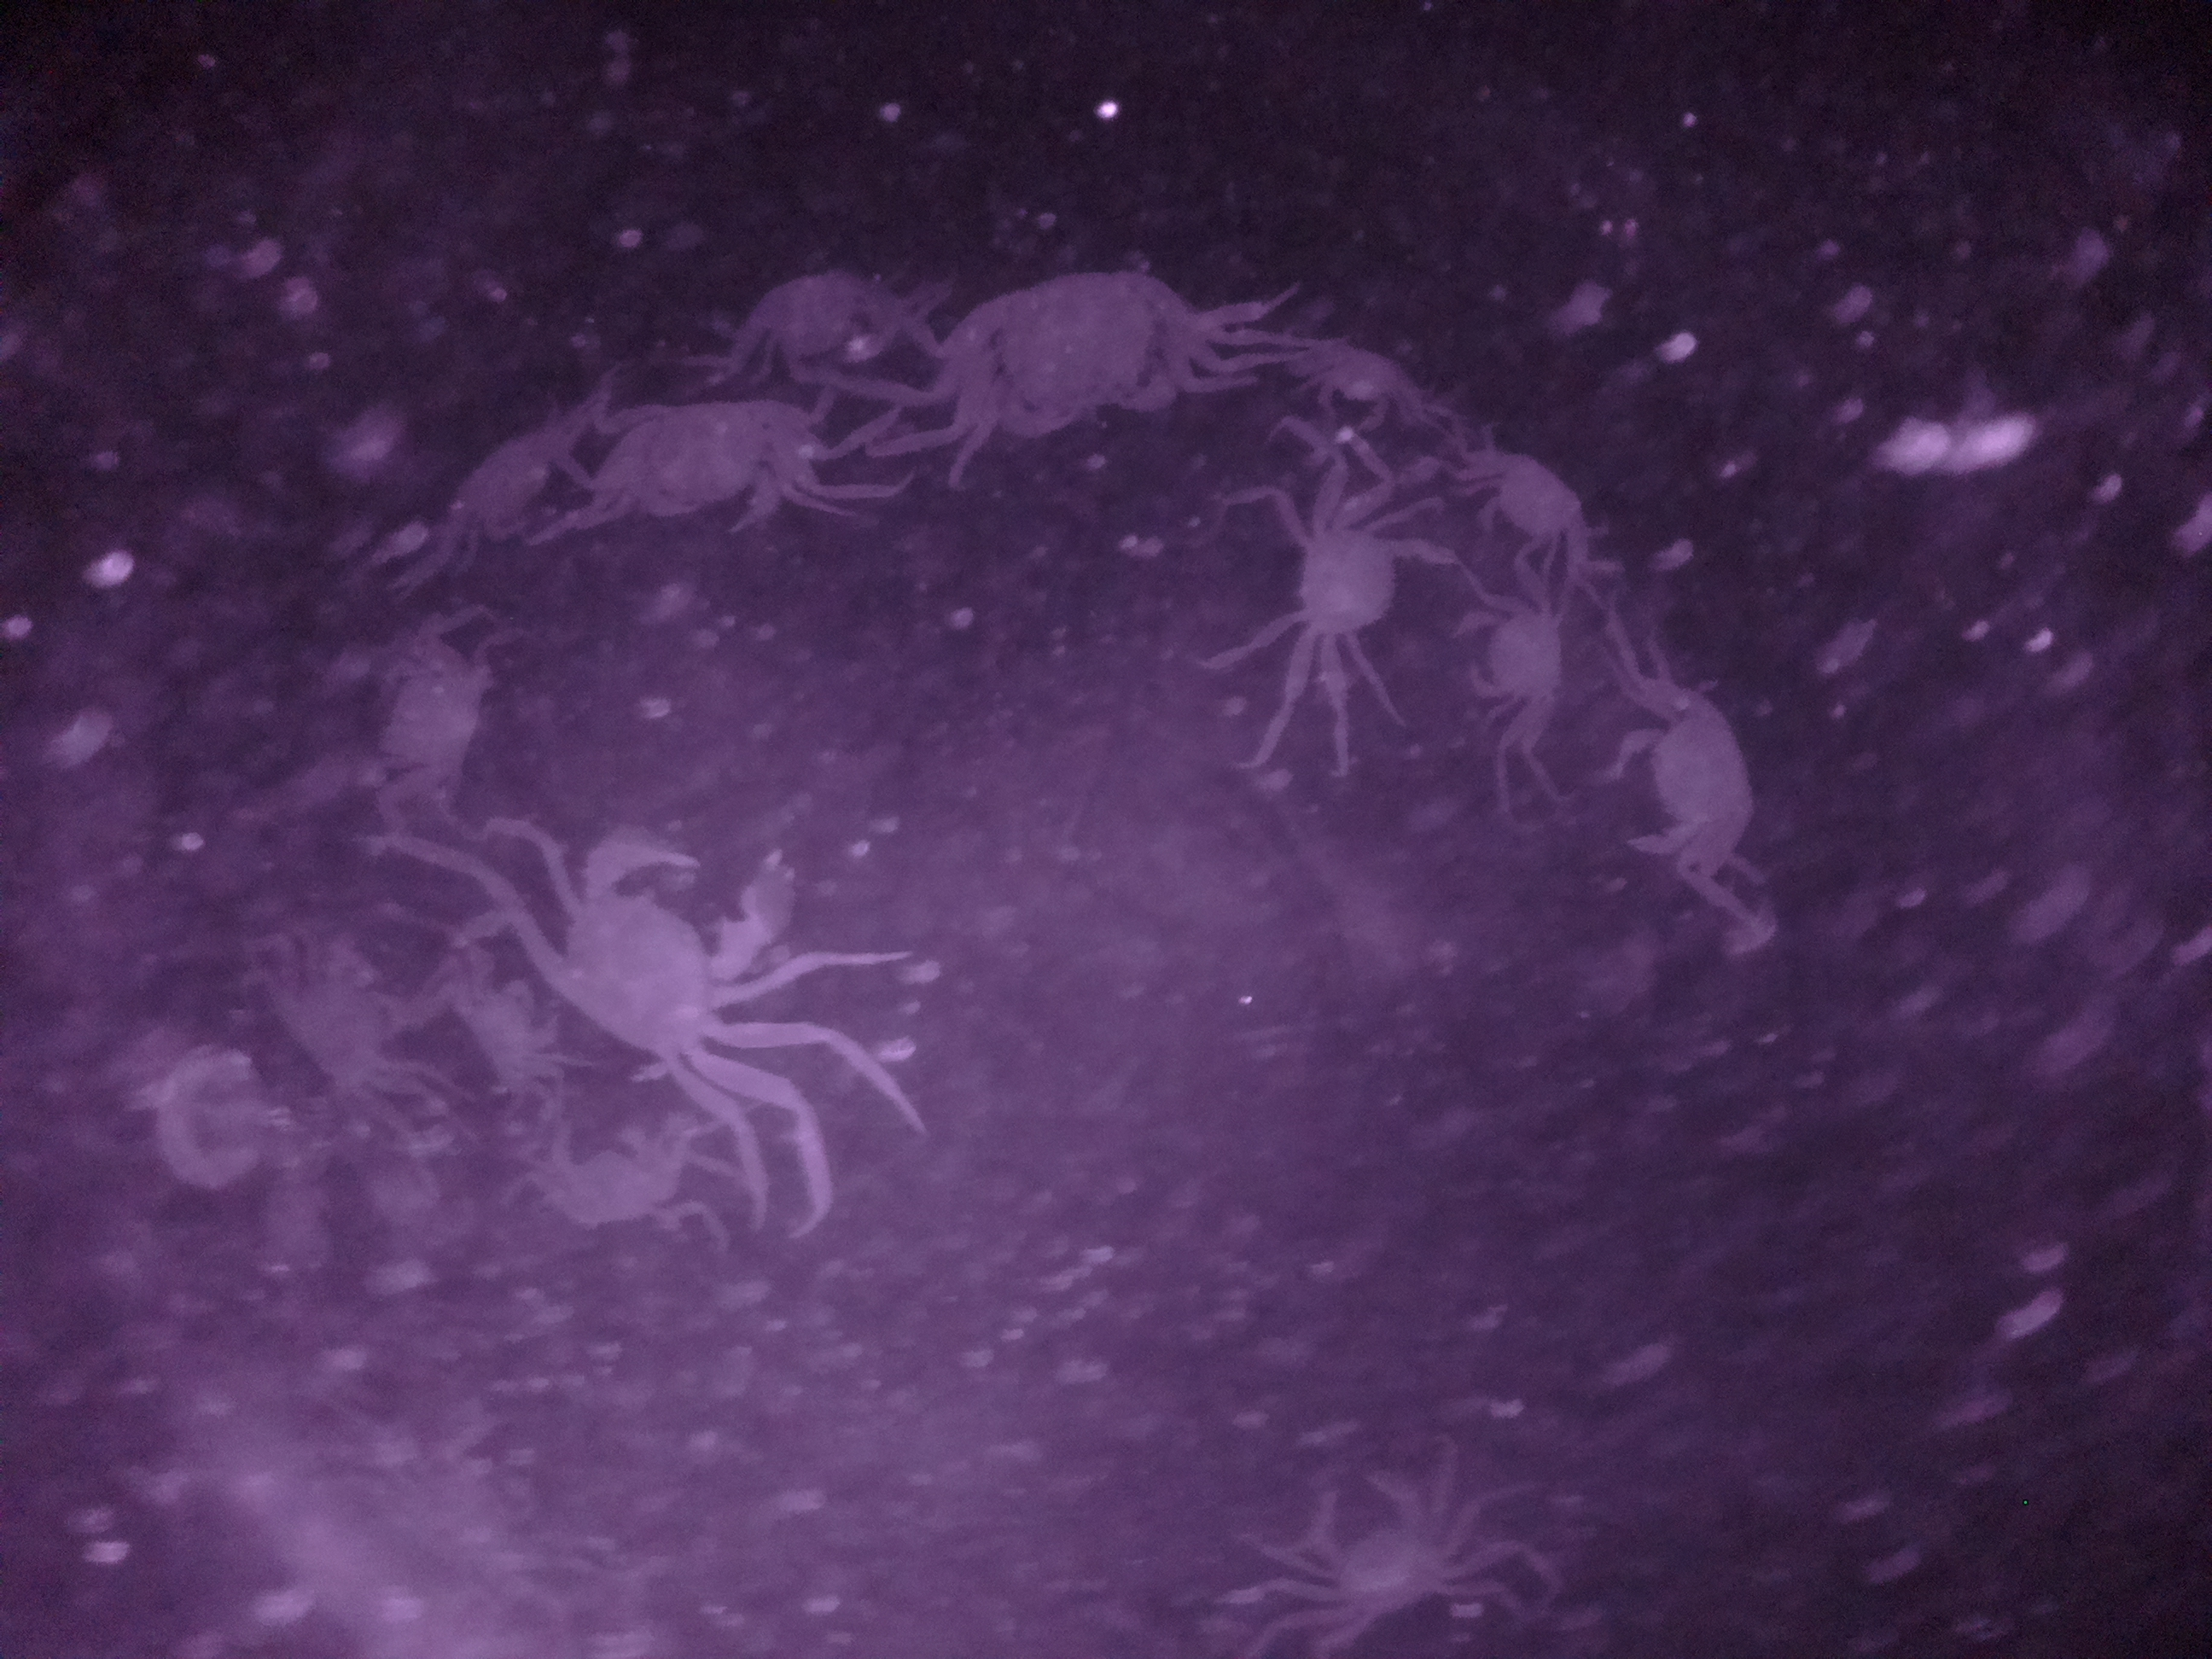Crab: (517, 817, 831, 1096), (921, 242, 1228, 458), (1590, 669, 1803, 885), (559, 380, 833, 538), (1238, 488, 1440, 669), (1468, 408, 1597, 587), (1446, 586, 1604, 725)
